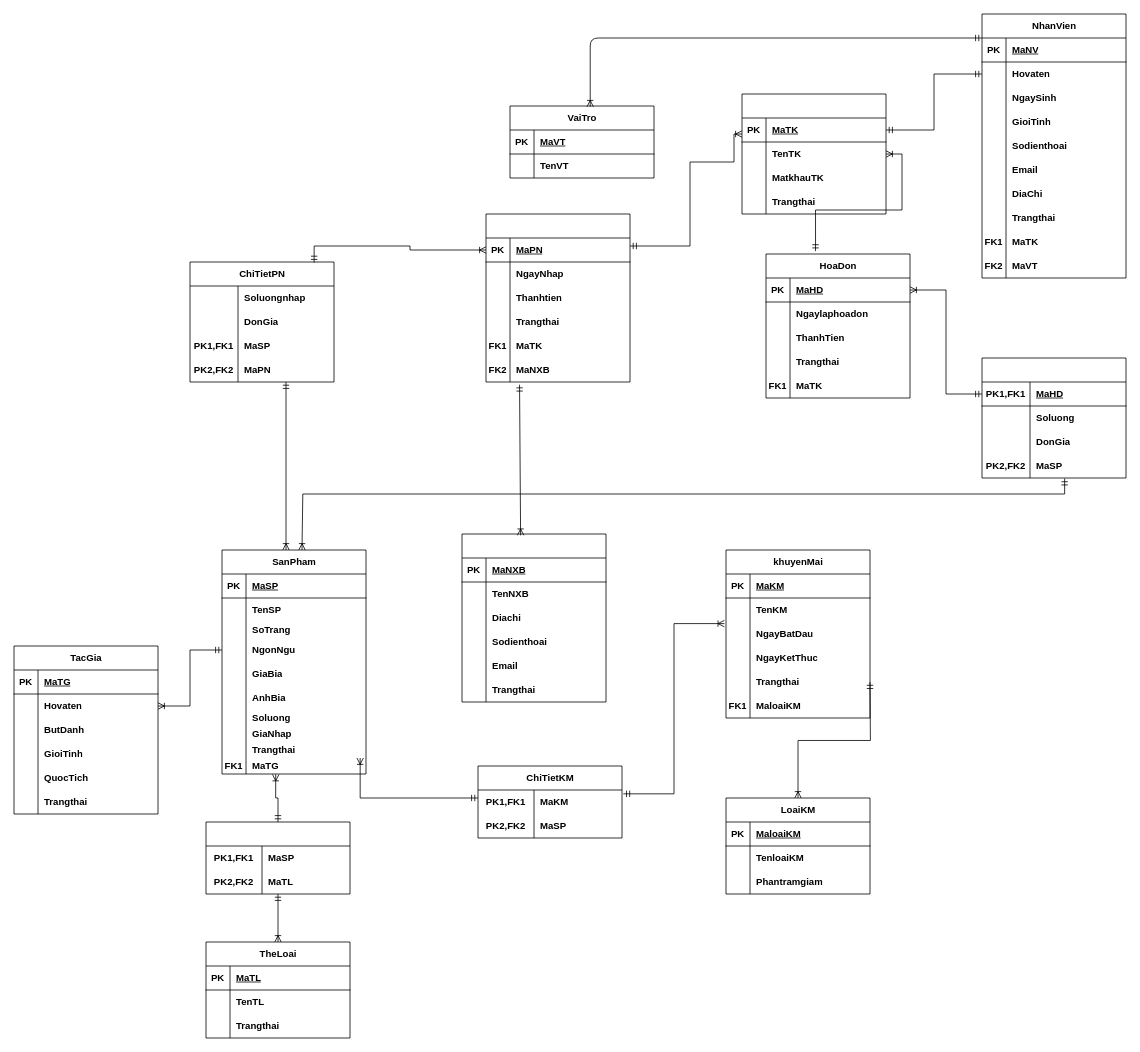
Image size: 1140x1052. Some labels were removed from this diagram. The box of each missing label's shape, as (x1, y1, x2, y2) in pixels:
ChiTietHD: (981, 357, 1126, 478)
NhaXuatBan: (461, 533, 606, 702)
PhieuNhap: (485, 213, 630, 382)
SachTheLoai: (205, 821, 350, 894)
TaiKhoan: (741, 93, 886, 214)
